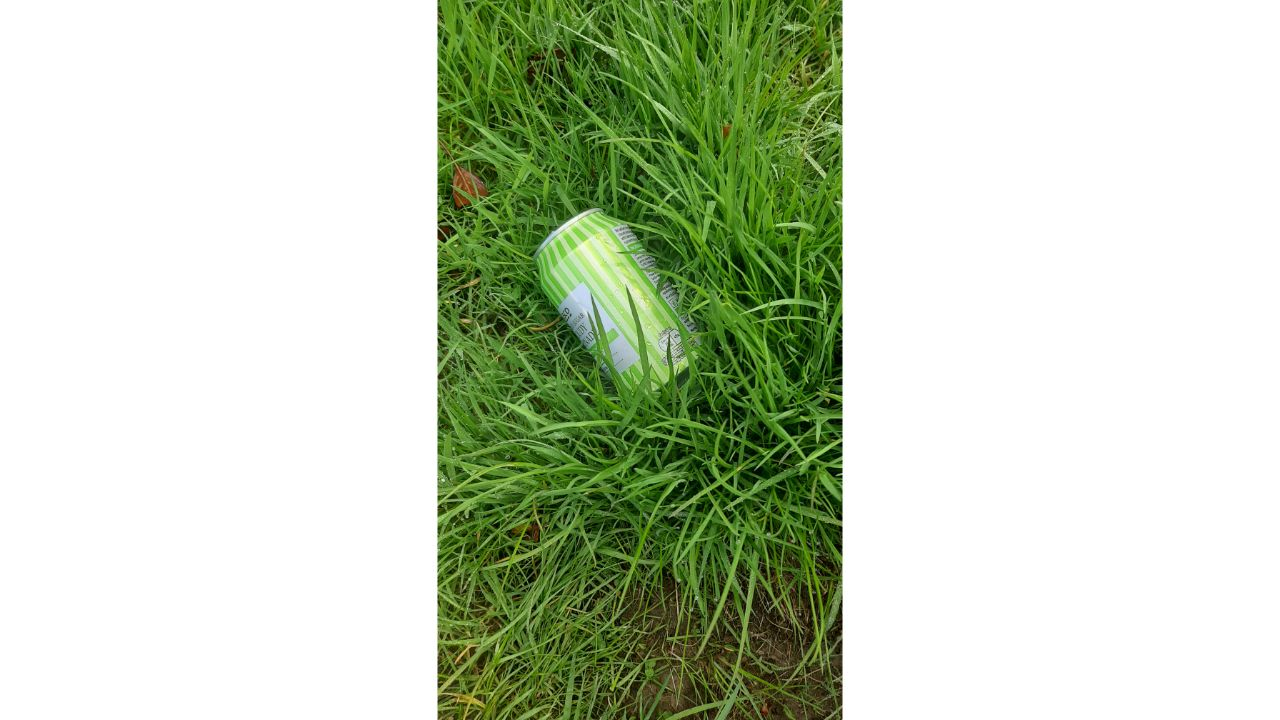Can: (524, 193, 718, 407)
